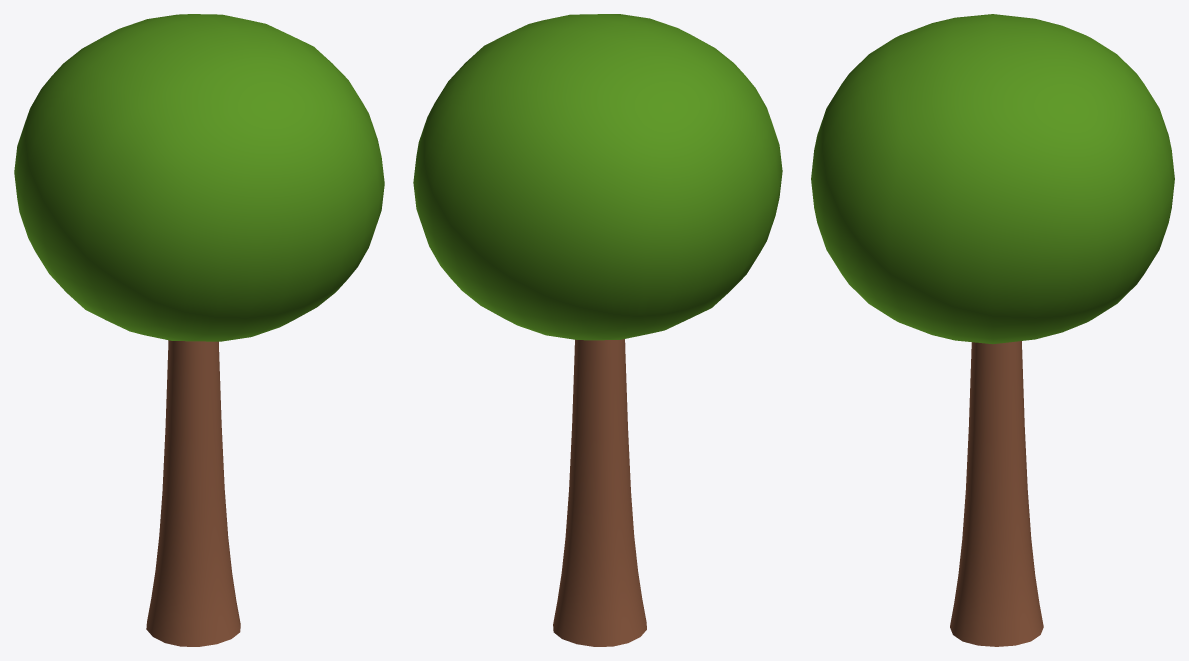
File: tree1.fbx
The picture shows the model from 3 angles, left to right: view 1: azimuth 30°, elevation 25°; view 2: azimuth 150°, elevation 25°; view 3: azimuth 270°, elevation 25°; orthographic projection.
Parts seen in each view (by area): view 1: Cube.070; view 2: Cube.070; view 3: Cube.070.
Part boxes in pixels (bbox=[...]): Cube.070: bbox=[14, 14, 384, 646]; Cube.070: bbox=[413, 14, 782, 646]; Cube.070: bbox=[811, 14, 1174, 646].
Bounding box in the file's own units: 3.04 × 3.04 × 5.46.
